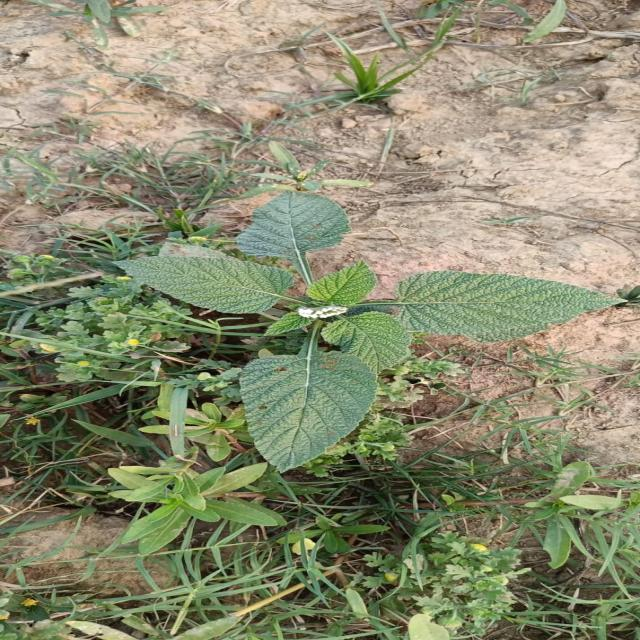plant: (115, 191, 619, 471)
